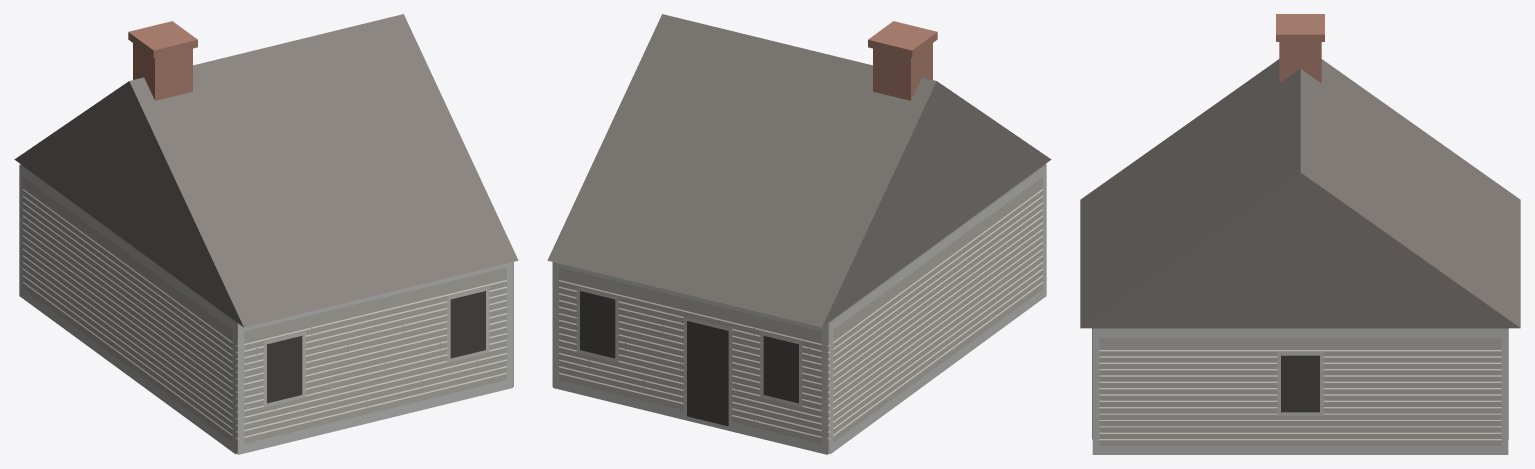
Rendered from recon_1835_south_d4_030__inferred_1835.glb.
3 renders of one model, left to right at view 1: azimuth 30°, elevation 25°; view 2: azimuth 150°, elevation 25°; view 3: azimuth 270°, elevation 25°, orthographic. The views are drawn at different scales.
Parts seen in each view (by area): view 1: recon_1835_south_d4_030__inferred_1835; view 2: recon_1835_south_d4_030__inferred_1835; view 3: recon_1835_south_d4_030__inferred_1835.
Boxes of the visible parts, x1,y1,x2,y2 form: recon_1835_south_d4_030__inferred_1835: [14, 14, 518, 454]; recon_1835_south_d4_030__inferred_1835: [547, 14, 1051, 454]; recon_1835_south_d4_030__inferred_1835: [1080, 14, 1520, 454].
Size of the model in its own units: 6.15 by 7 by 8.8.
